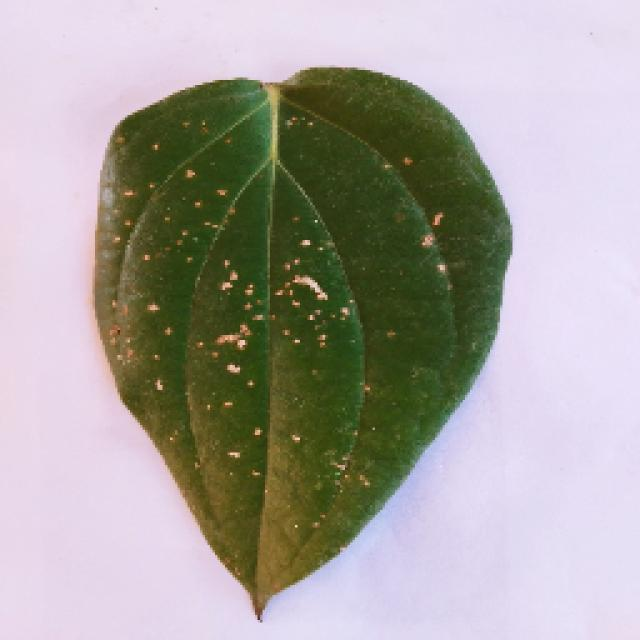pollu-disease: (75, 73, 527, 625)
